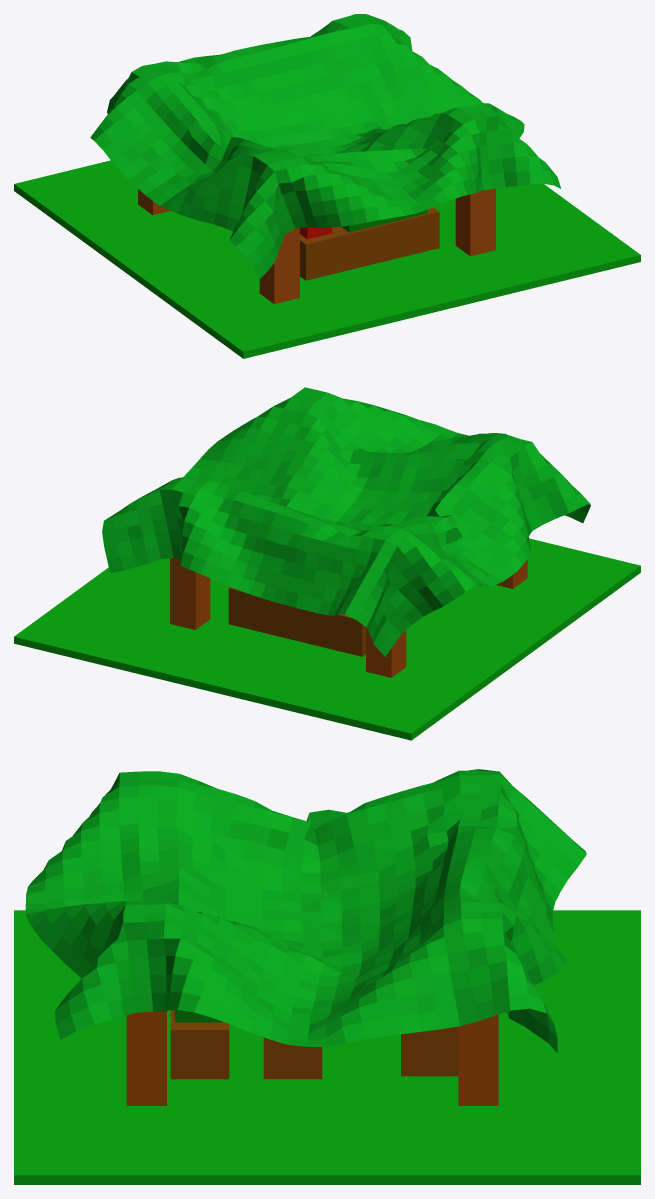
The model's file is RebelOutpost.fbx.
The picture shows the model from 3 angles, top to bottom: view 1: azimuth 30°, elevation 25°; view 2: azimuth 150°, elevation 25°; view 3: azimuth 270°, elevation 25°; orthographic projection. The views are drawn at different scales.
Visible parts, largest first — view 1: Plane.002, Plane, Cube.011, Cube.001; view 2: Plane.002, Plane, Cube.011, Cube.001; view 3: Plane.002, Plane, Cube.011, Cube.001.
Boxes of the visible parts, bbox=[...] form: Plane.002: bbox=[90, 14, 560, 278]; Plane: bbox=[14, 160, 640, 358]; Cube.011: bbox=[300, 207, 439, 280]; Cube.001: bbox=[138, 188, 495, 303]; Plane.002: bbox=[102, 387, 590, 656]; Plane: bbox=[14, 538, 640, 740]; Cube.011: bbox=[228, 587, 365, 656]; Cube.001: bbox=[170, 558, 527, 677]; Plane.002: bbox=[25, 769, 586, 1052]; Plane: bbox=[14, 910, 640, 1184]; Cube.011: bbox=[170, 1010, 458, 1079]; Cube.001: bbox=[126, 1011, 498, 1105].
Bounding box in the file's own units: 594 × 208 × 594.
